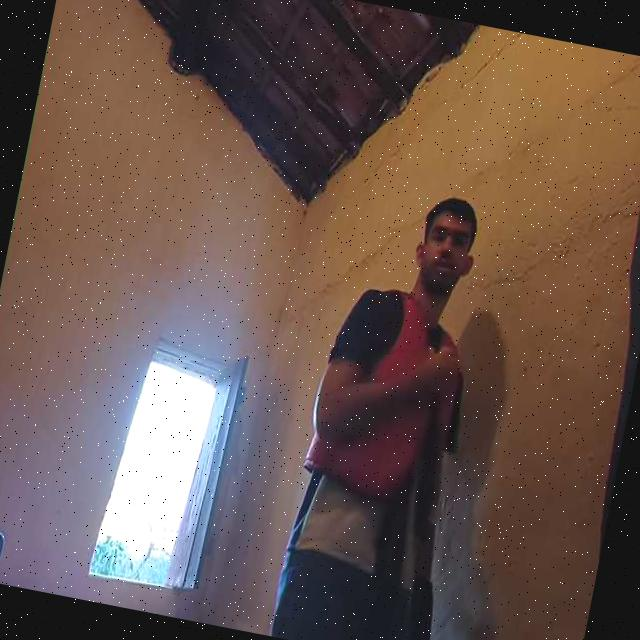pessoa: (263, 179, 508, 640)
